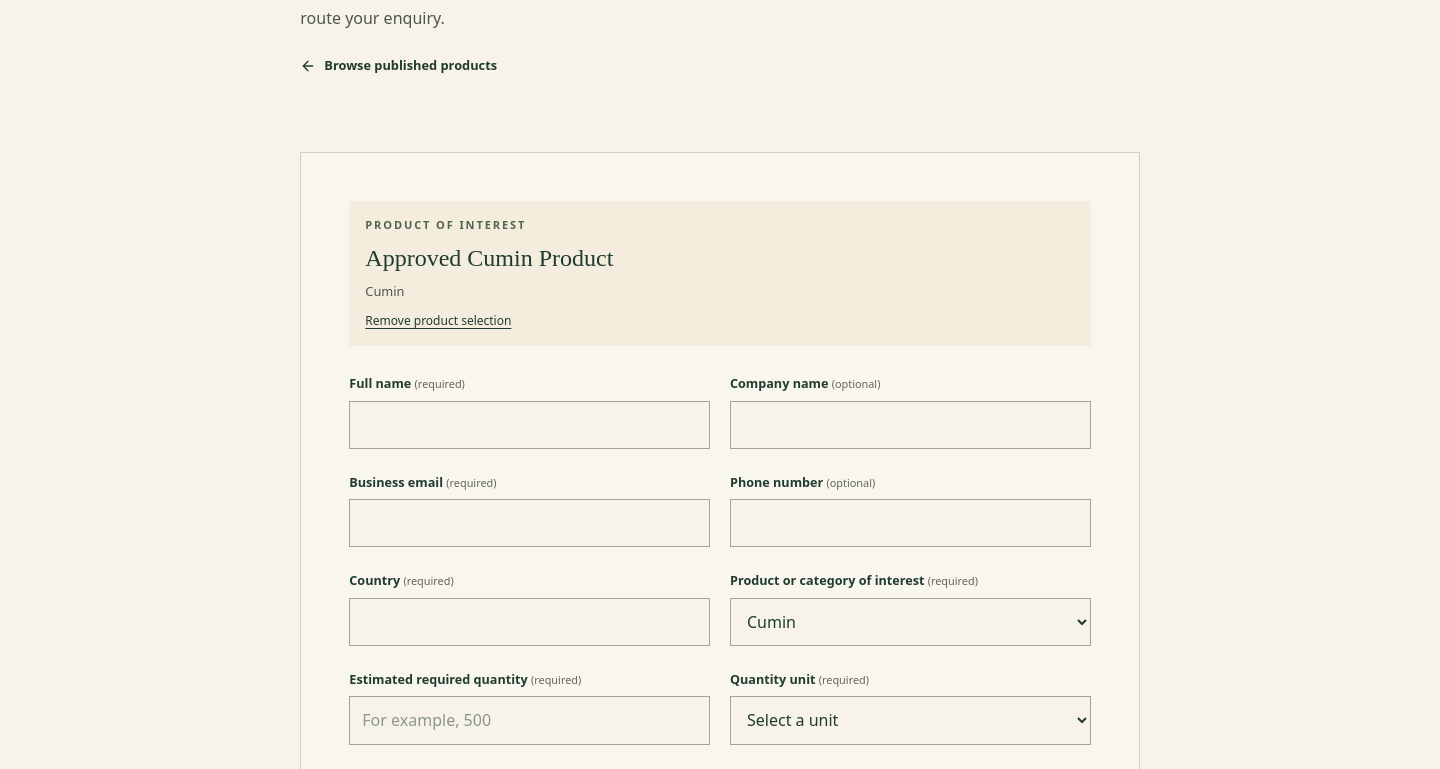
Test: Phase 9 public contact route › preserves product preselection through the existing API submission payload contract
(page scrolled)
Check: the text "Approved Cumin Product" is shown, box [365, 245, 613, 271]
In the field labelled "Full name (required)": (530, 425) [349, 401, 710, 449], type "Buyer One"
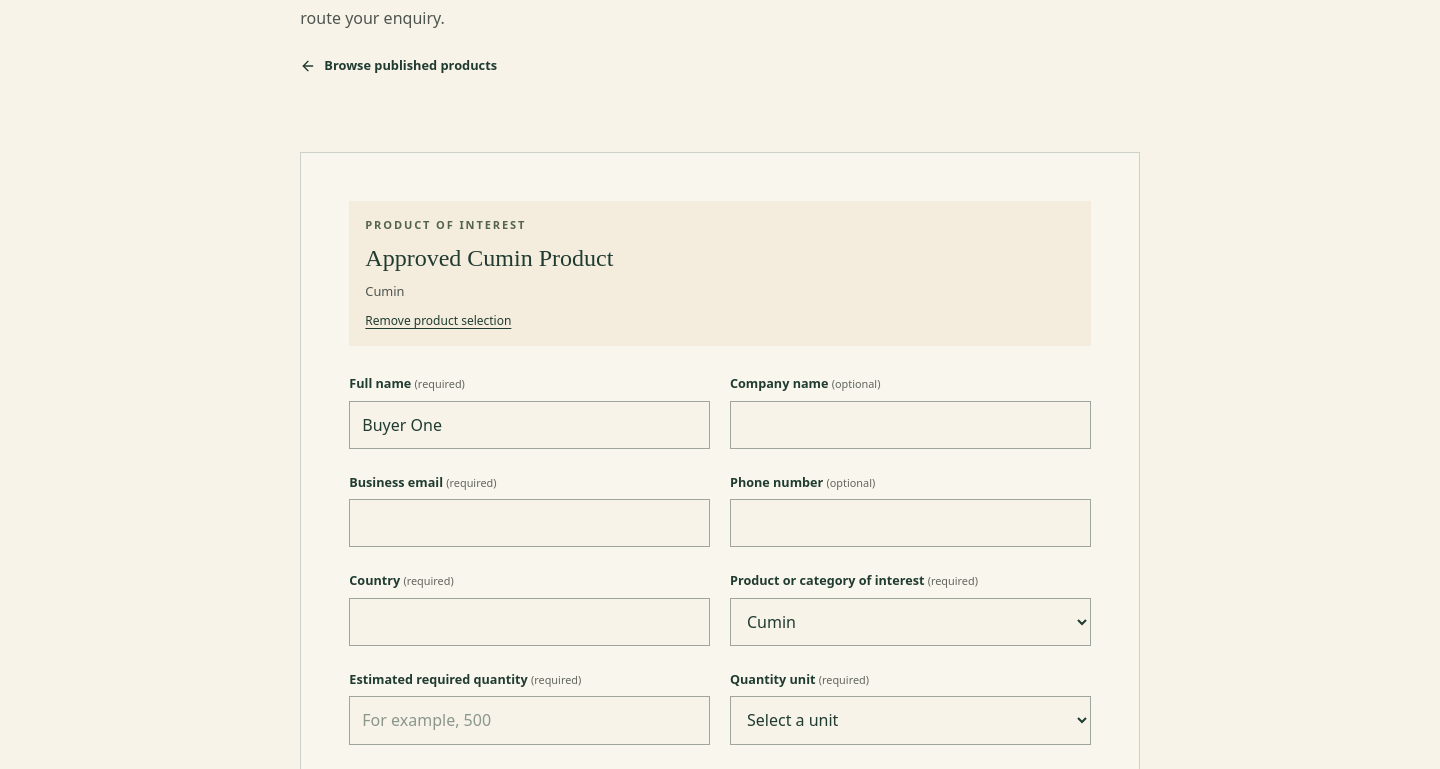
In the field labelled "Business email (required)": (530, 523) [349, 499, 710, 548], type "buyer@example.com"
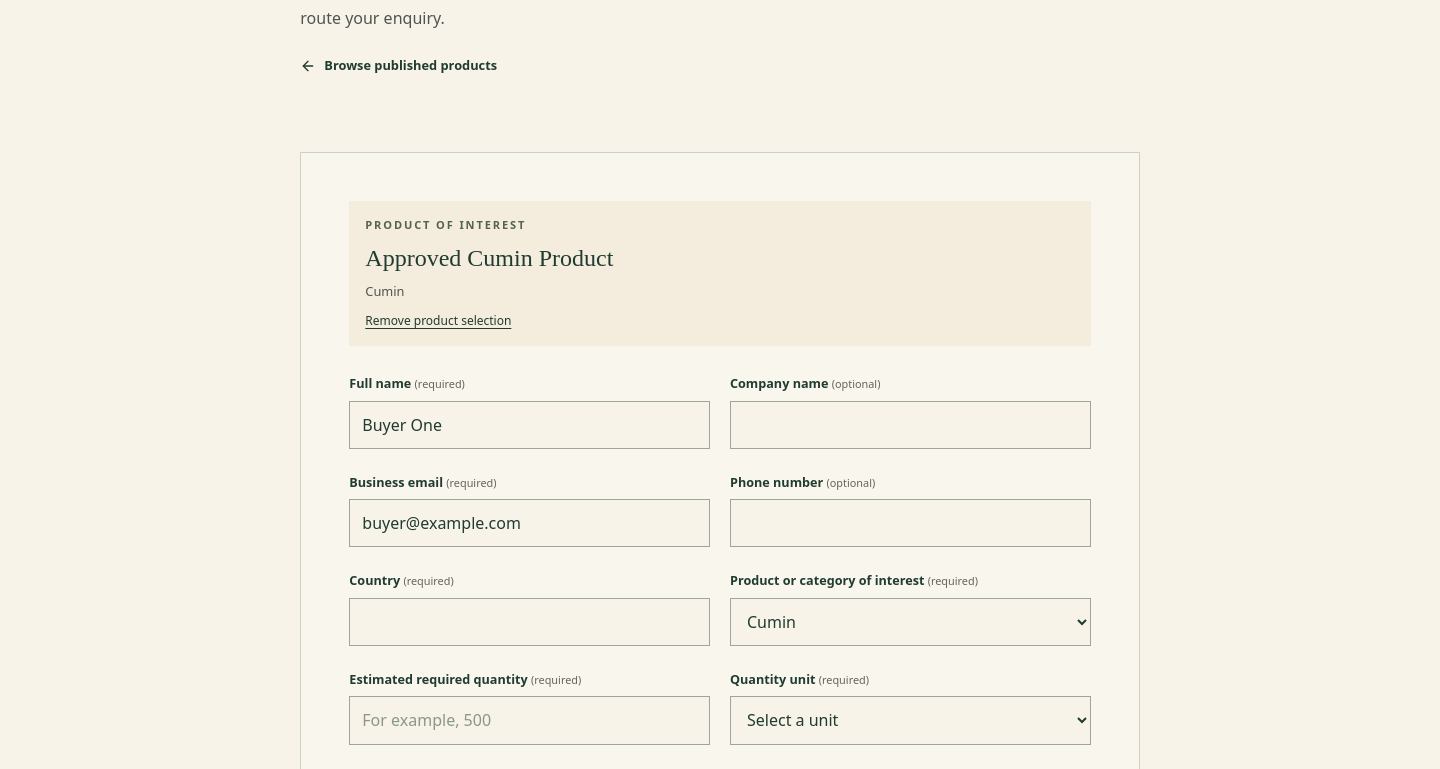
In the field labelled "Country (required)": (530, 622) [349, 598, 710, 646], type "Buyer Country"
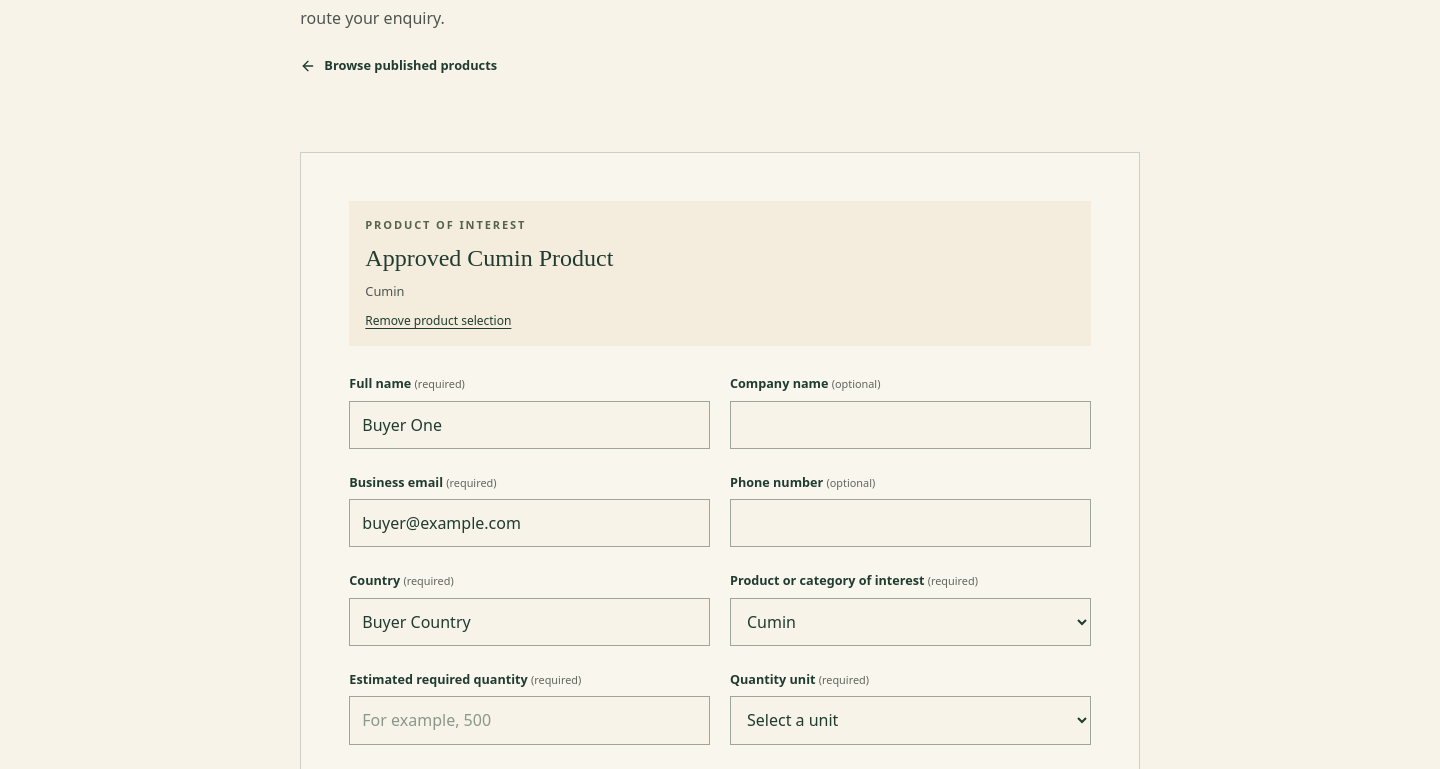
In the number field labelled "Estimated required quantity (required)": (530, 720) [349, 696, 710, 744], type "500"
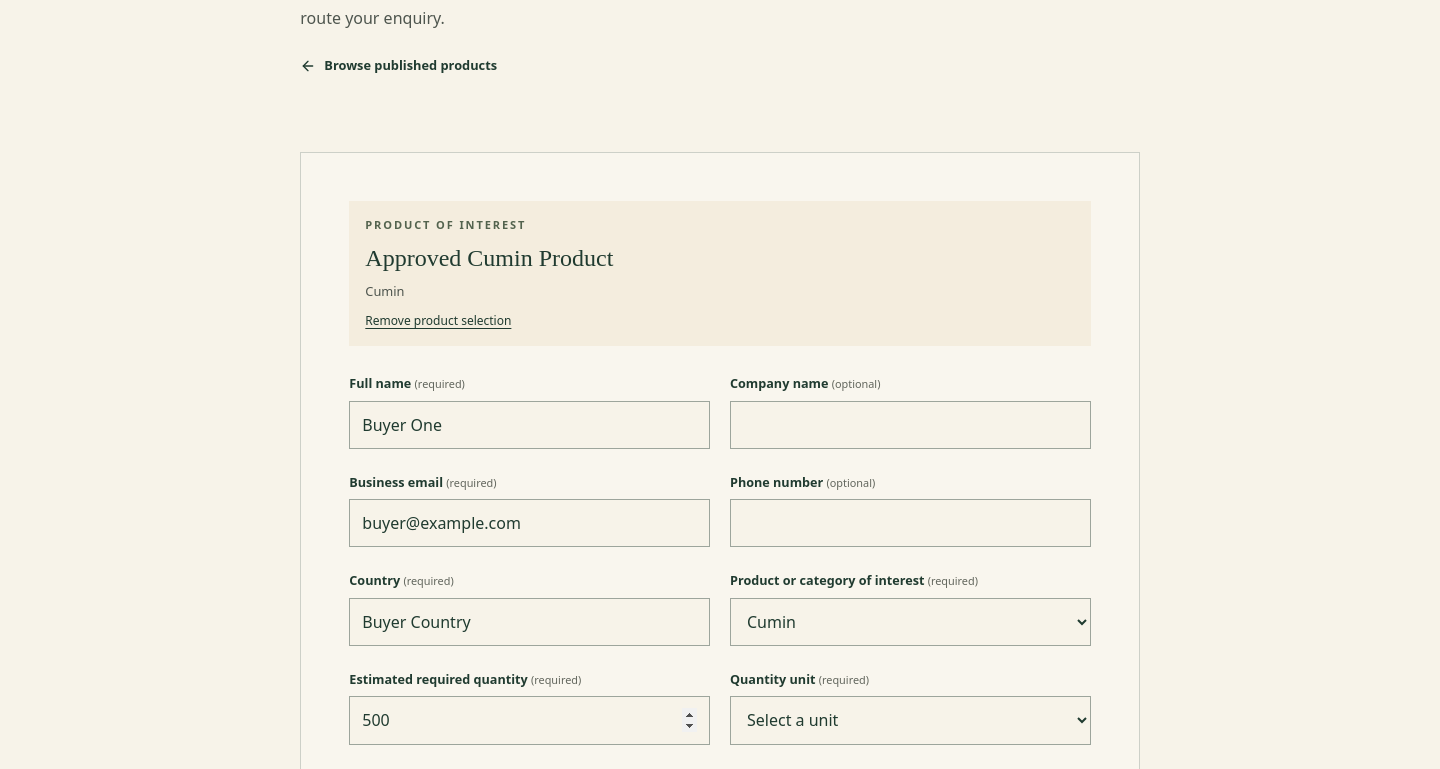
Select "Kilograms" in the dropdown labelled "Quantity unit (required)": (910, 720) [730, 696, 1091, 744]
(page scrolled)
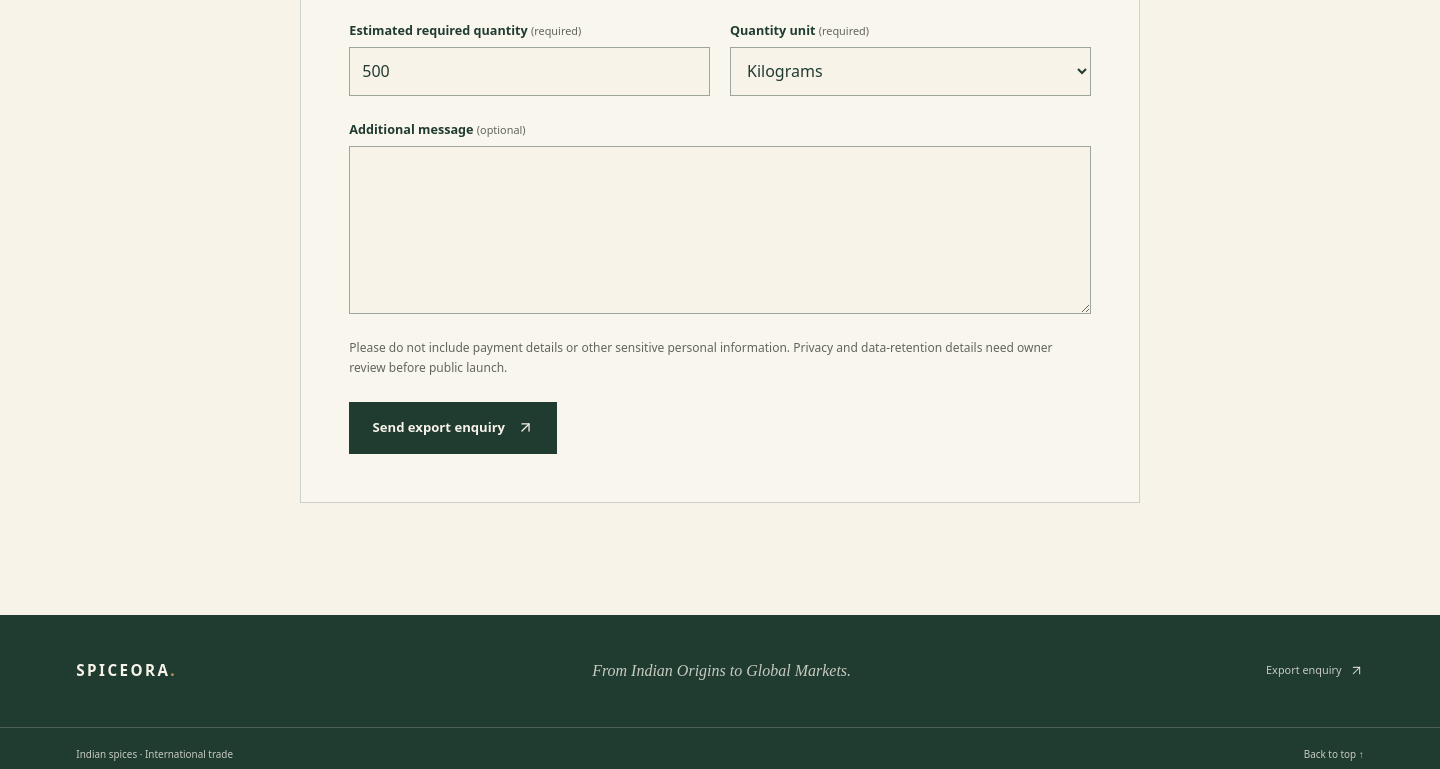
Click the button "Send export enquiry": (453, 428) [349, 402, 557, 454]
(page scrolled)
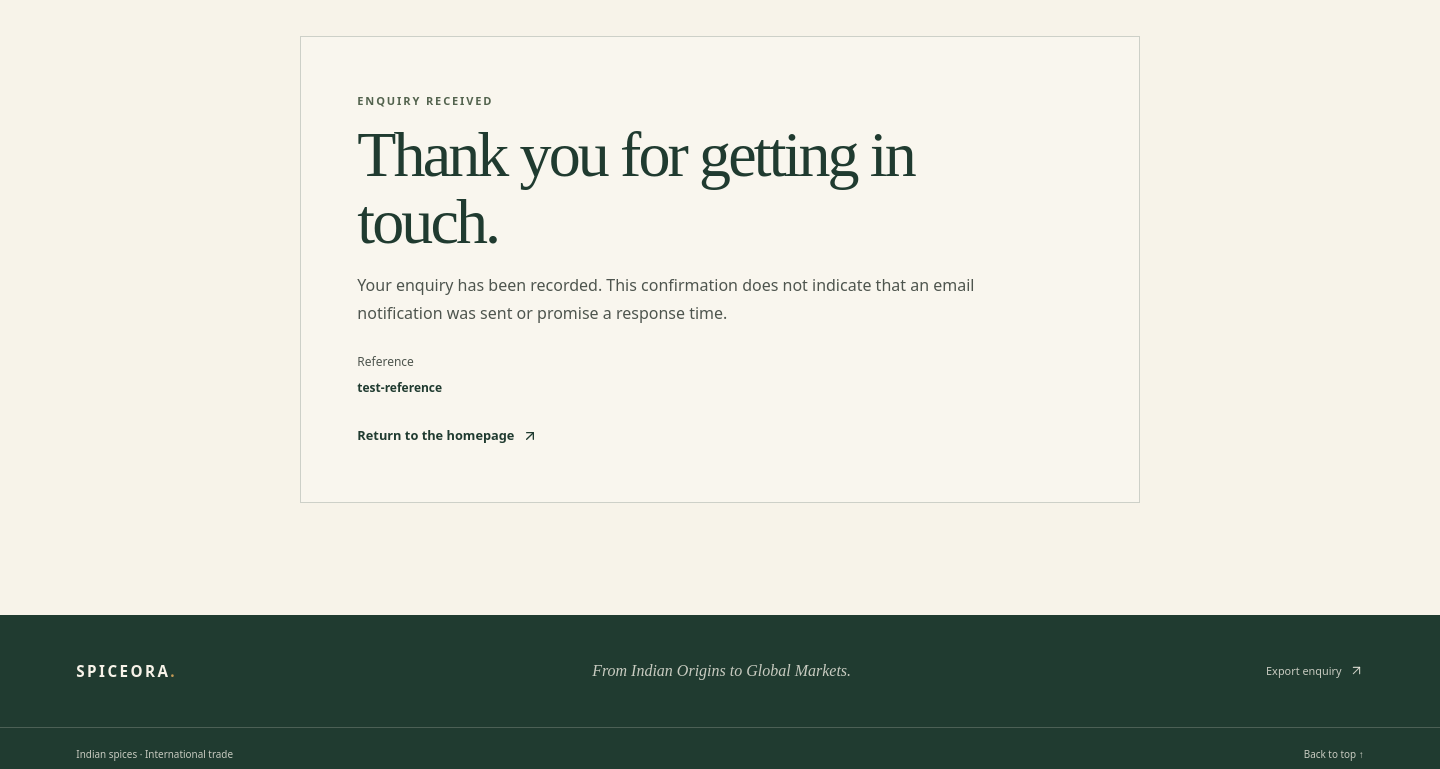
Check: the text "test-reference" is shown, box [357, 379, 442, 396]
